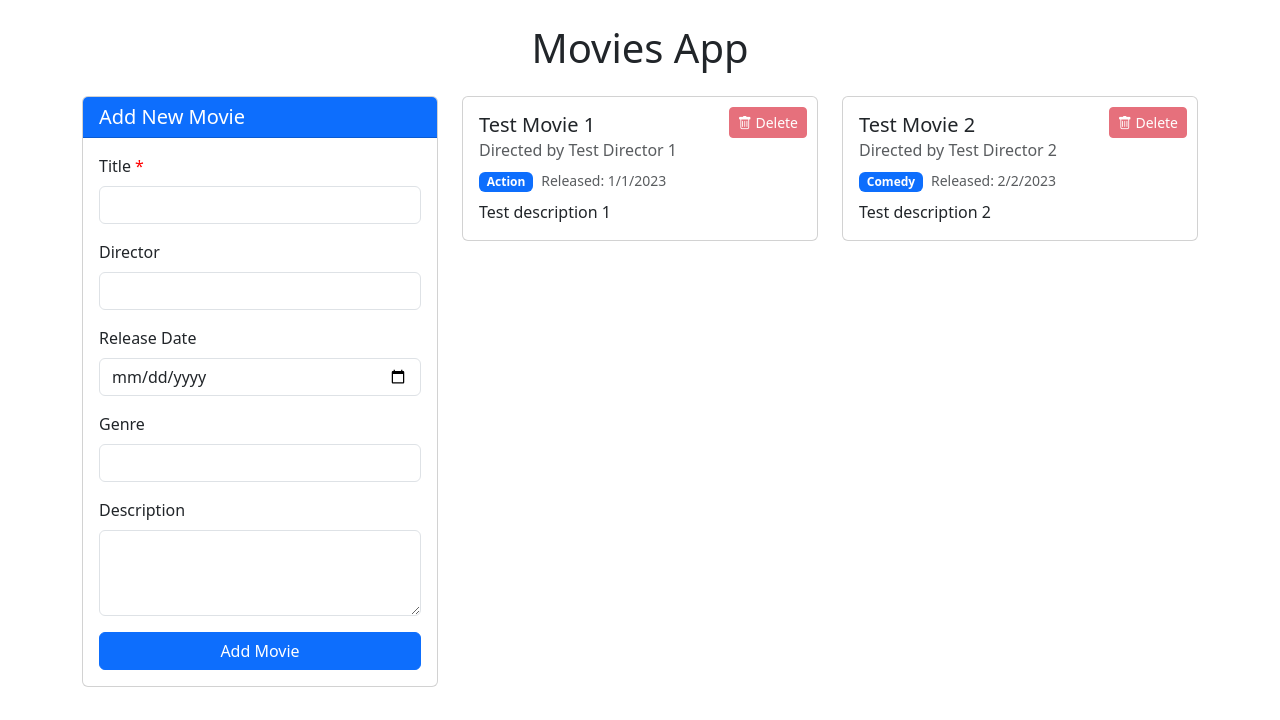
App Component › adds a new movie successfully
# Fill out the form
In the field with test id "title-input": (260, 205) [99, 186, 421, 224], type "New Movie"
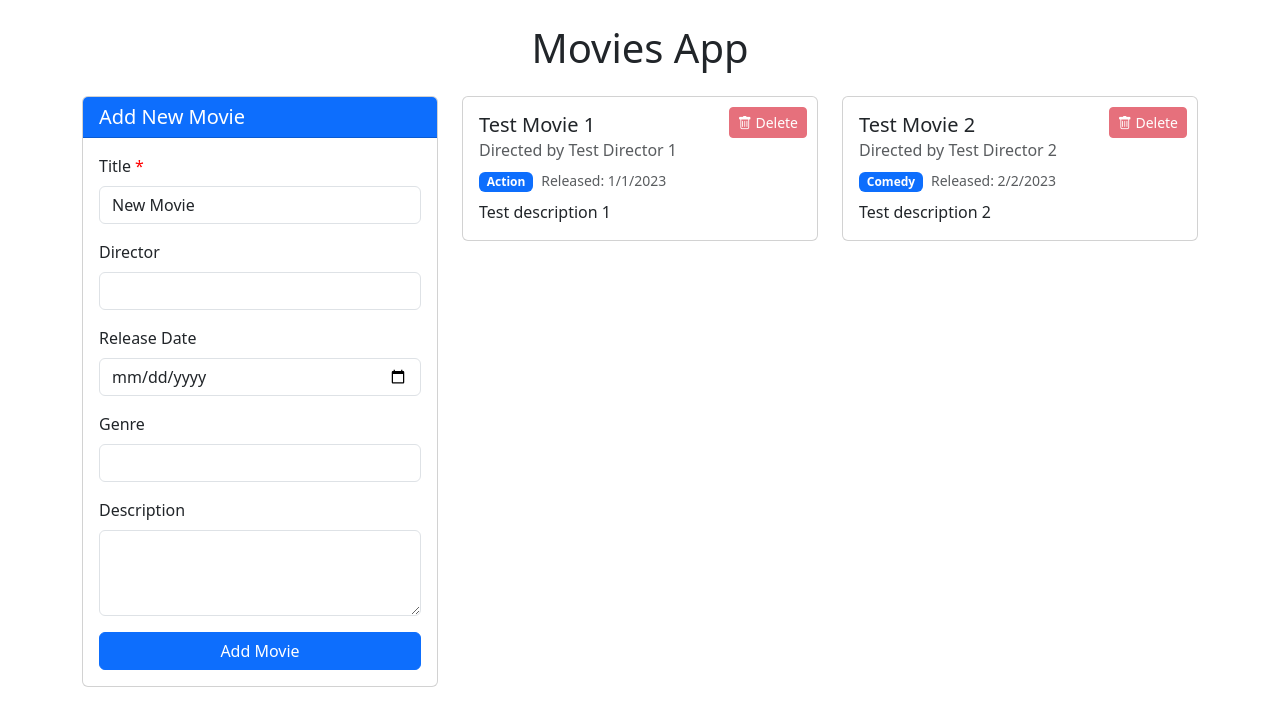
In the field with test id "director-input": (260, 291) [99, 272, 421, 310], type "New Director"
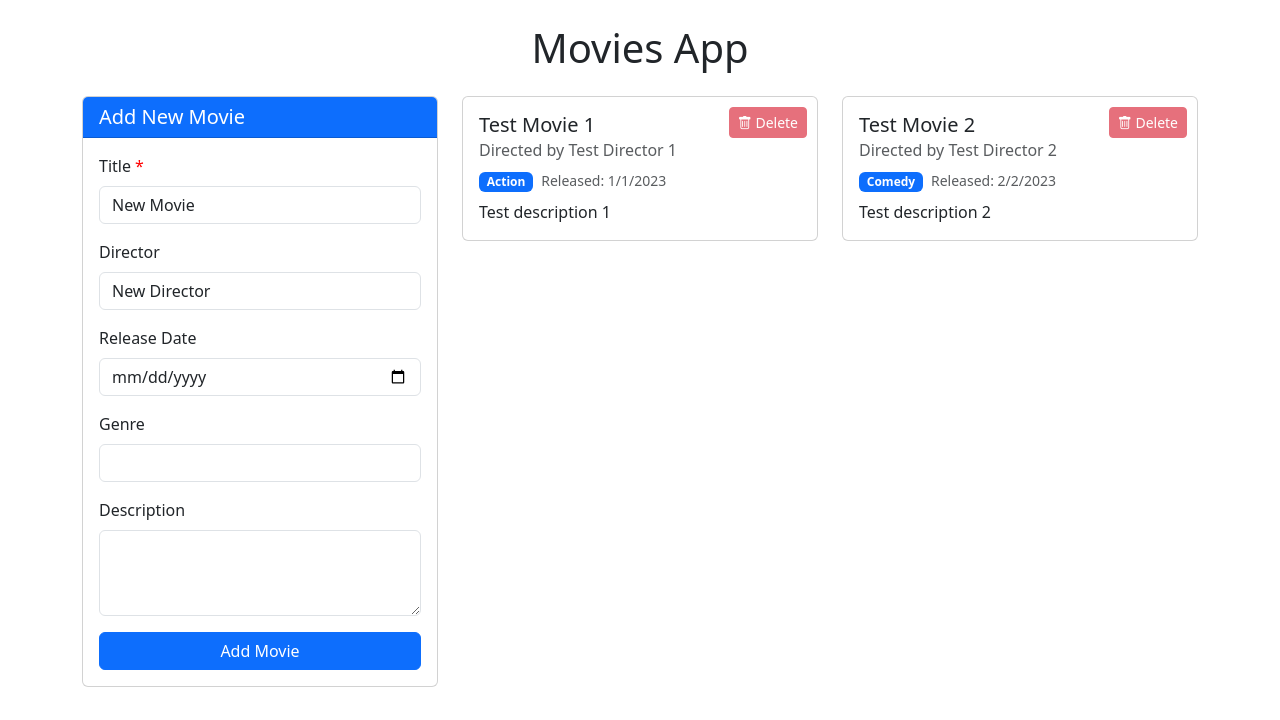
In the date field with test id "release-date-input": (260, 377) [99, 358, 421, 396], type "2023-03-01"
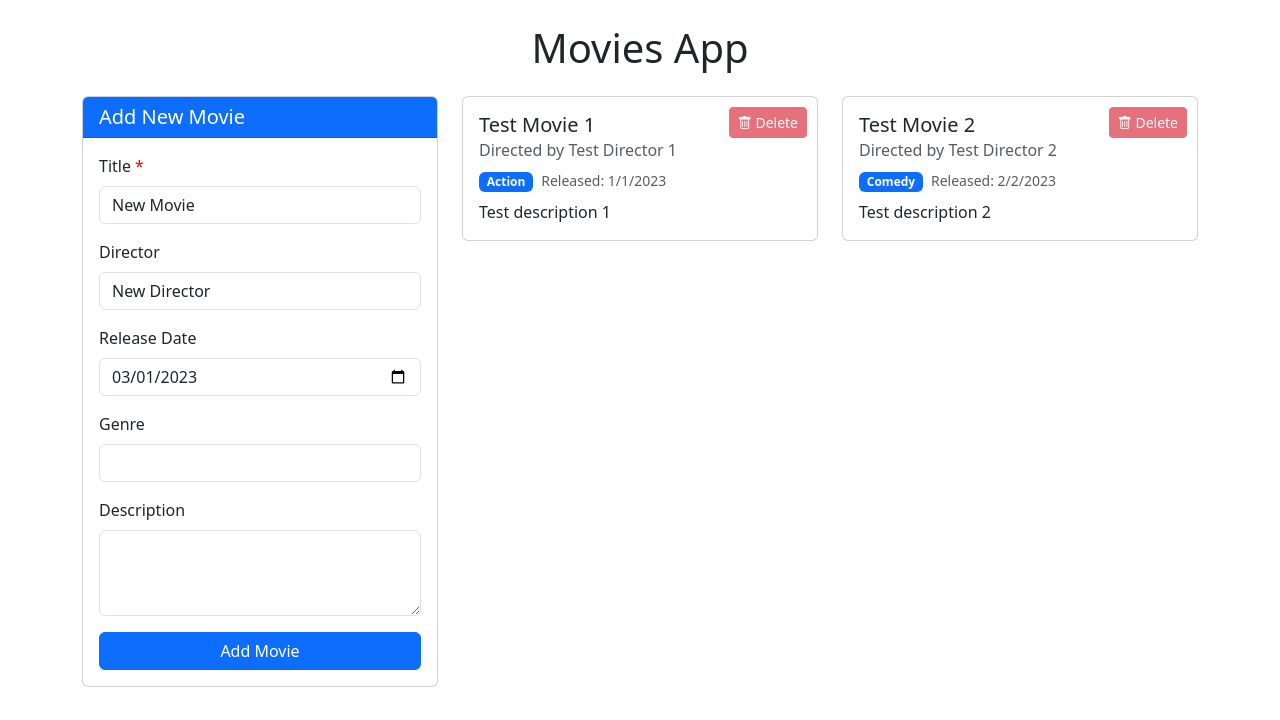
In the field with test id "genre-input": (260, 463) [99, 444, 421, 482], type "Drama"
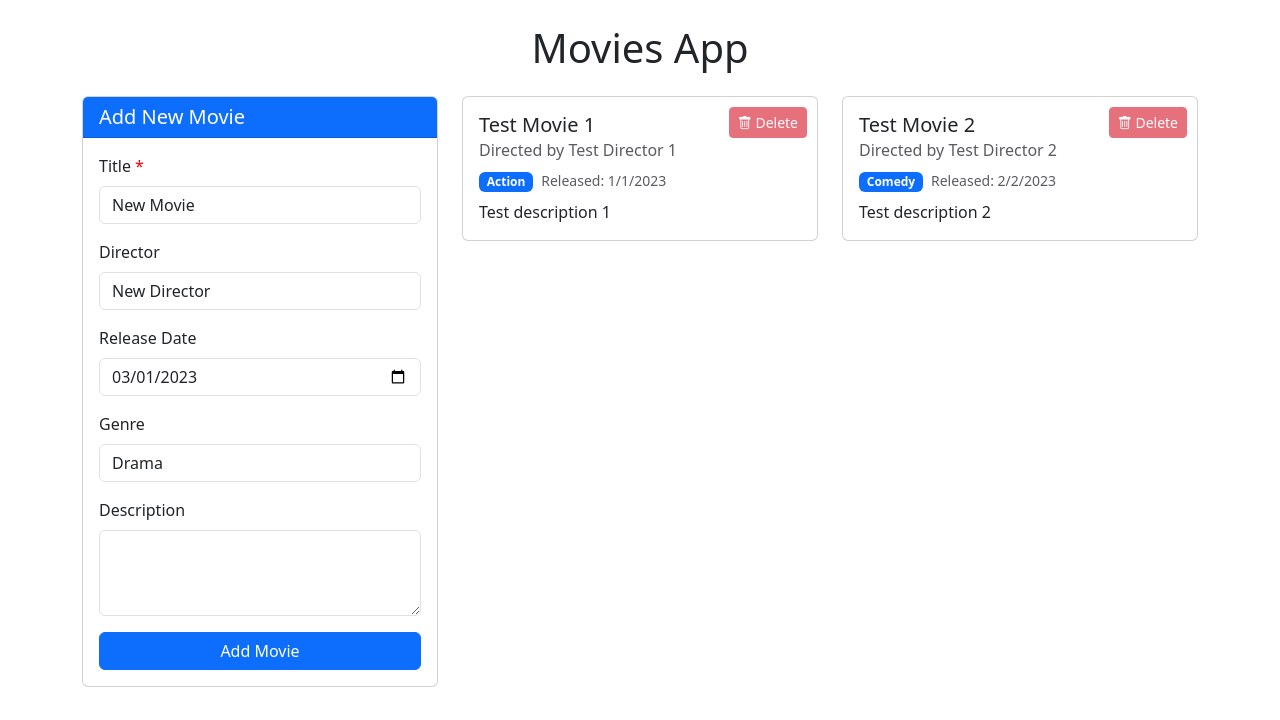
In the text box with test id "description-input": (260, 573) [99, 530, 421, 616], type "New Description"
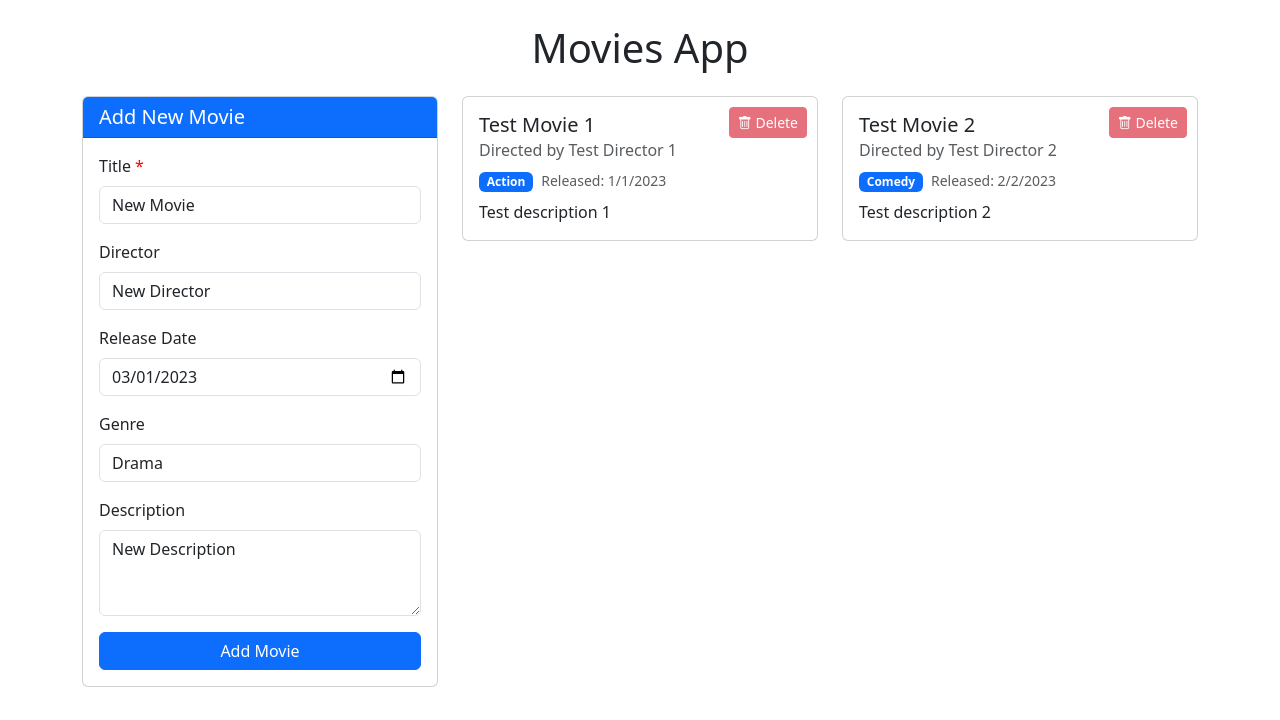
# Submit the form
Click the button with test id "submit-button": (260, 651) [99, 632, 421, 670]
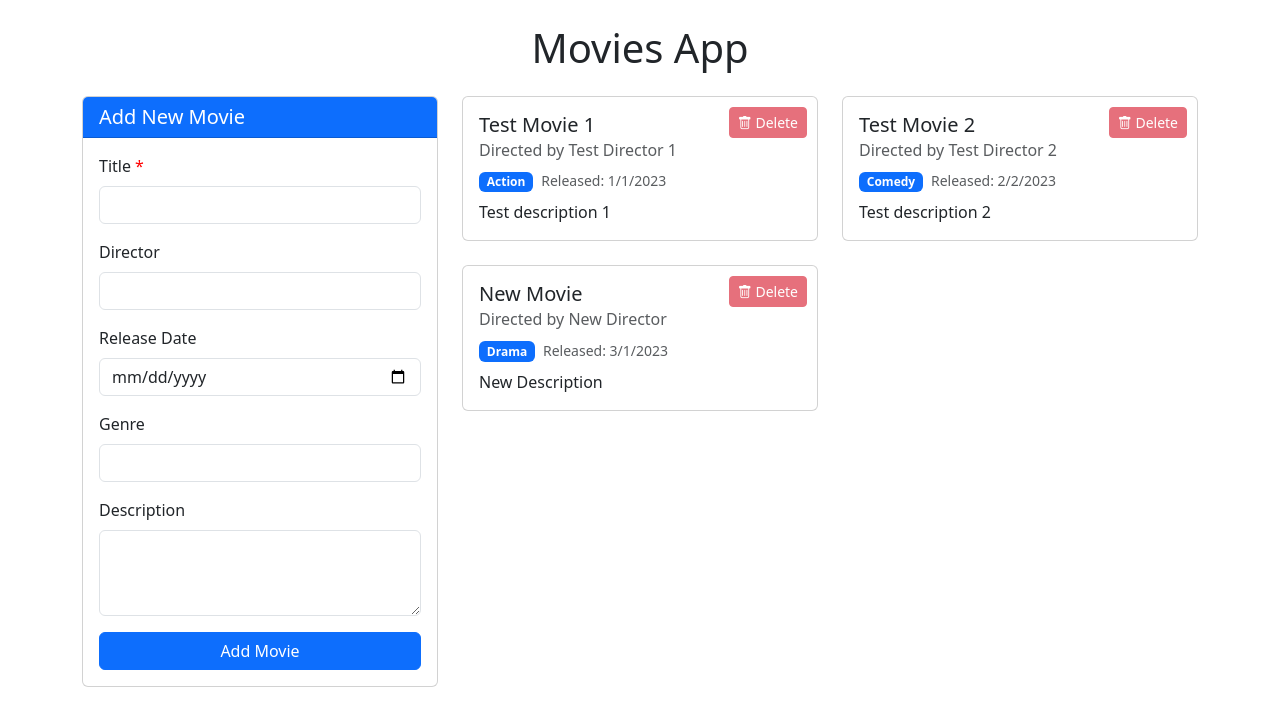
expect the heading "New Movie" is shown: met, box [479, 280, 582, 307]
